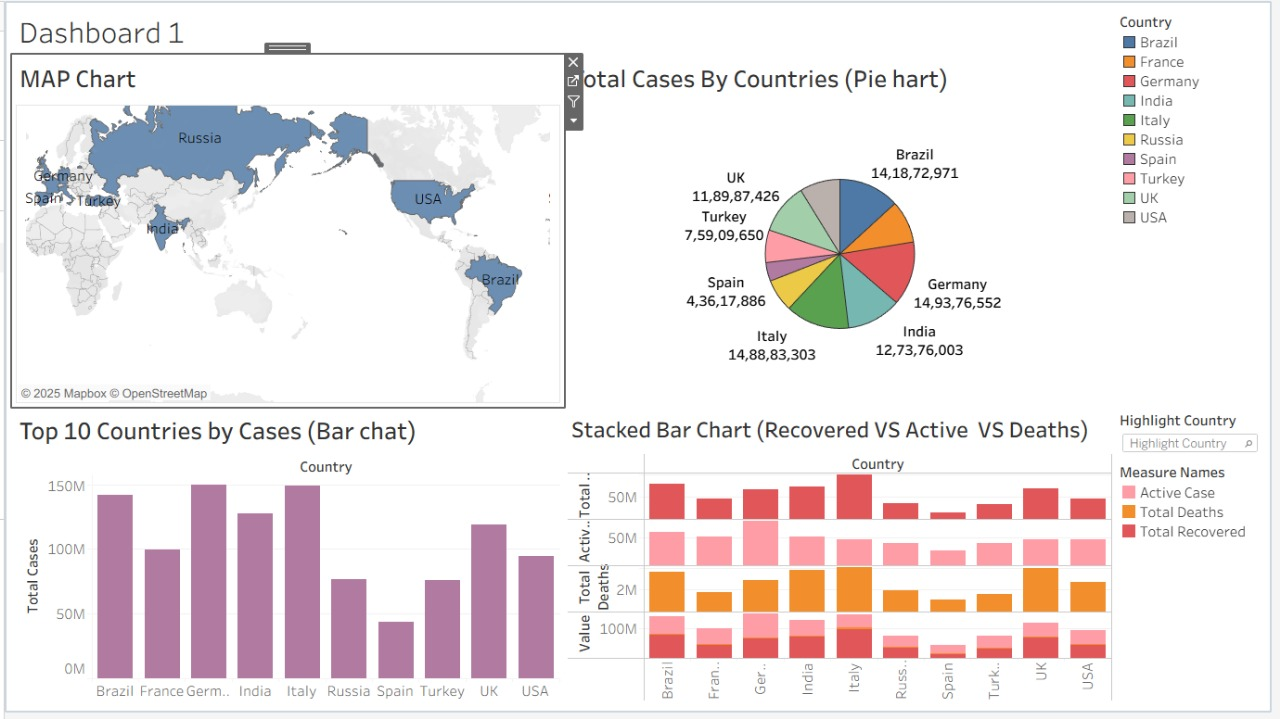

This screenshot's page, from the dashboard's own definition file:
{"tool":"tableau","page":{"name":"Dashboard","canvas":[1366,768],"ordinal":0},"visuals":[{"type":"title","box":[8,8,1190,49]},{"type":"legend","title":"Pie","param":"[federated.11y9poa069xdzc0ztyqdp0mx36hb].[none:country:nk]","box":[1198,8,160,430]},{"type":"worksheet","title":"Map","mark":"Multipolygon","box":[8,57,595,380.5]},{"type":"worksheet","title":"Pie","mark":"Pie","box":[603,57,595,380.5]},{"type":"worksheet","title":"Bar","mark":"Automatic","rows":["total cases"],"cols":["country"],"box":[8,437.5,595,322.5]},{"type":"worksheet","title":"Stacked","mark":"Automatic","rows":["total recovered","active case","total deaths"],"cols":["country"],"box":[603,437.5,595,322.5]},{"type":"highlighter","title":"Pie","param":"[federated.11y9poa069xdzc0ztyqdp0mx36hb].[none:country:nk]","box":[1198,438,160,56]},{"type":"legend","title":"Stacked","param":"[federated.11y9poa069xdzc0ztyqdp0mx36hb].[:Measure Names]","box":[1198,494,160,93]}]}

Visuals, with their boxes in screenshot pixels (x1, y1, x2, y2), scaled from the page's 1366x768 canvas onto the 1280x719 screenshot:
title: (x1=7, y1=7, x2=1123, y2=53)
"Pie" legend: (x1=1123, y1=7, x2=1273, y2=410)
"Map" worksheet (Multipolygon marks): (x1=7, y1=53, x2=565, y2=410)
"Pie" worksheet (Pie marks): (x1=565, y1=53, x2=1123, y2=410)
"Bar" worksheet: (x1=7, y1=410, x2=565, y2=712)
"Stacked" worksheet: (x1=565, y1=410, x2=1123, y2=712)
"Pie" highlighter: (x1=1123, y1=410, x2=1273, y2=462)
"Stacked" legend: (x1=1123, y1=462, x2=1273, y2=550)
